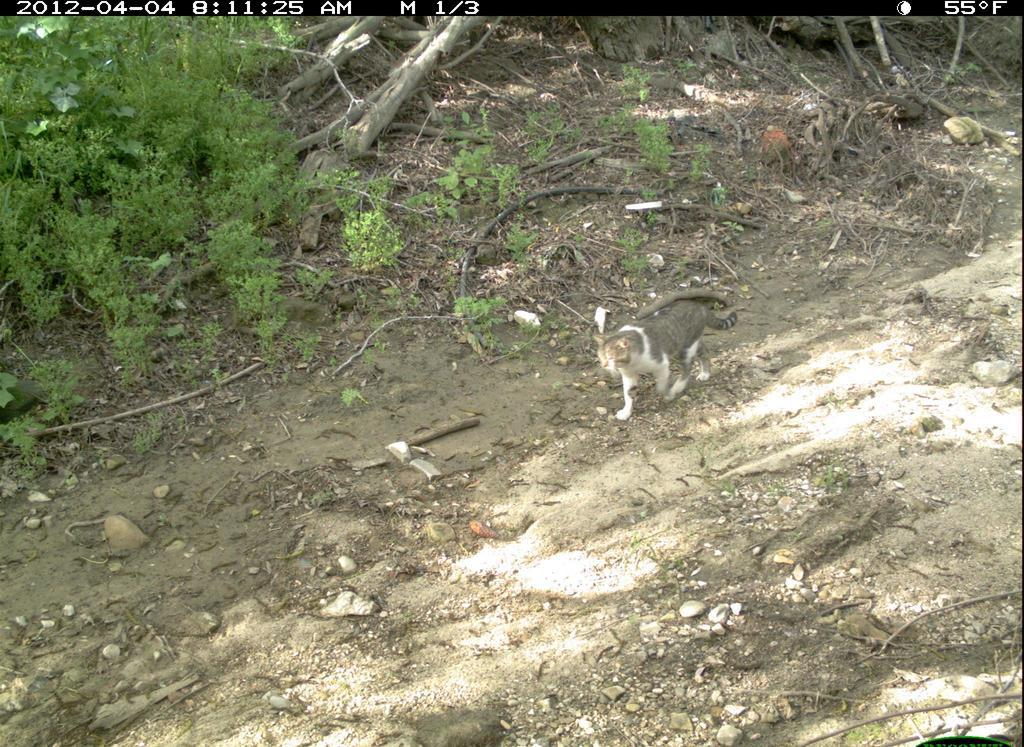cat: (587, 279, 746, 425)
